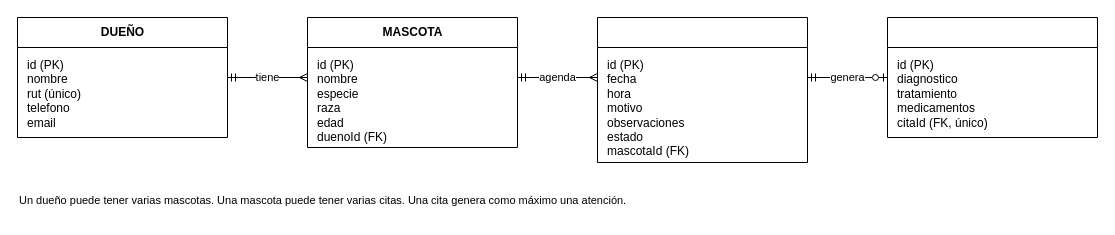
This 1115x235 diagram has some shape labels left out. Here are the shapes that lost their labels. From the top down, the box of each, then its label:
(596, 16, 808, 162): CITA
(886, 16, 1098, 138): ATENCIÓN
